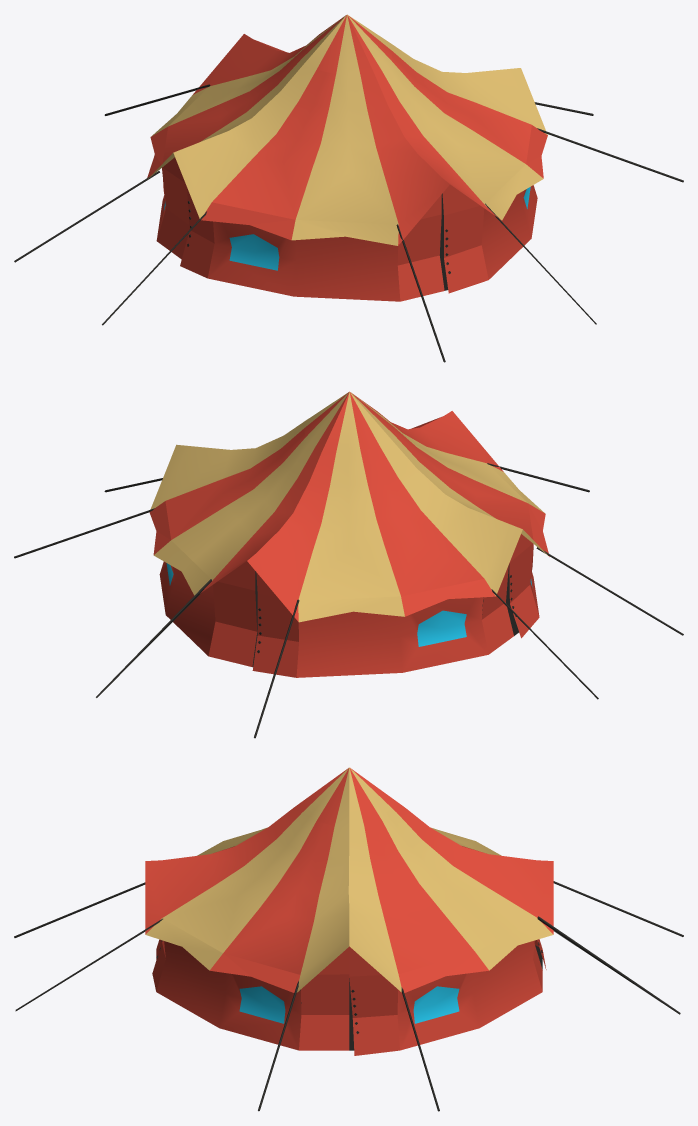
File: Tent_Big_03.fbx
3 renders of one model, top to bottom at view 1: azimuth 30°, elevation 25°; view 2: azimuth 150°, elevation 25°; view 3: azimuth 270°, elevation 25°, orthographic.
Visible parts, largest first — view 1: Tent_Base_03, Door_Front_03, Door_Left_03; view 2: Tent_Base_03, Door_Back_03, Door_Left_03; view 3: Tent_Base_03, Door_Right_03.
Part boxes in pixels (bbox=[...]): Tent_Base_03: bbox=[14, 14, 683, 362]; Door_Front_03: bbox=[397, 184, 488, 301]; Door_Left_03: bbox=[156, 157, 214, 278]; Tent_Base_03: bbox=[14, 391, 683, 738]; Door_Back_03: bbox=[208, 561, 298, 677]; Door_Left_03: bbox=[481, 534, 539, 654]; Tent_Base_03: bbox=[14, 767, 683, 1111]; Door_Right_03: bbox=[299, 946, 399, 1055].
Size of the model in its own units: 11.9 by 4.07 by 11.95.
